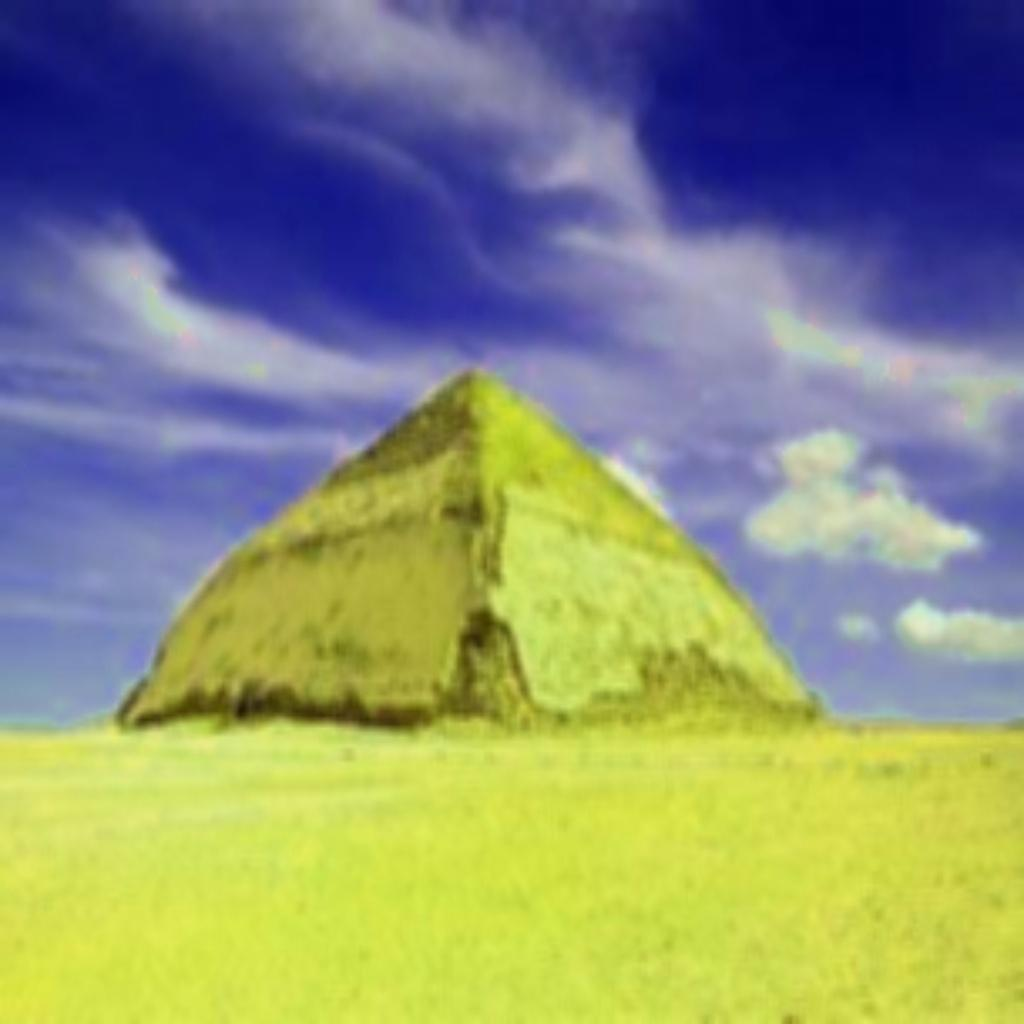Bent Pyramid of King Sneferu: (104, 354, 826, 740)
